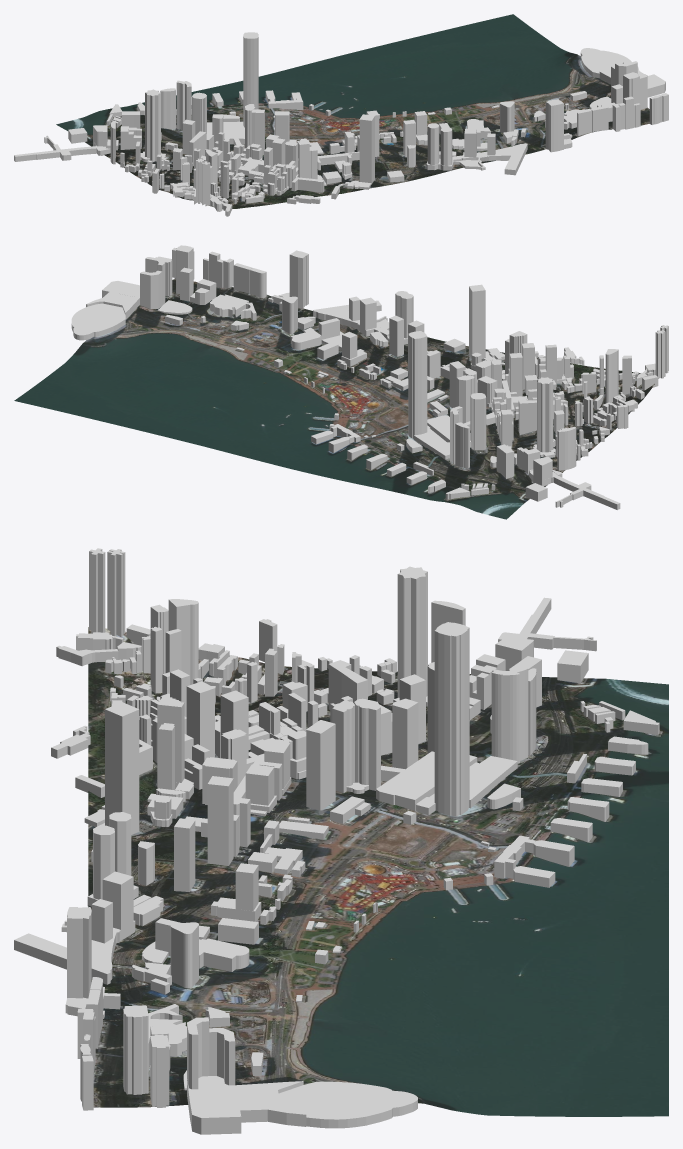
3 renders of one model, top to bottom at view 1: azimuth 30°, elevation 25°; view 2: azimuth 150°, elevation 25°; view 3: azimuth 270°, elevation 25°, orthographic. The views are drawn at different scales.
Parts seen in each view (by area): view 1: Areas:building, EXPORT_ESRI_AERIAL_WM; view 2: EXPORT_ESRI_AERIAL_WM, Areas:building; view 3: EXPORT_ESRI_AERIAL_WM, Areas:building.
Boxes of the visible parts, <box> form: Areas:building: <box>14,32,668,216</box>; EXPORT_ESRI_AERIAL_WM: <box>56,14,649,209</box>; EXPORT_ESRI_AERIAL_WM: <box>14,278,658,519</box>; Areas:building: <box>71,245,668,509</box>; EXPORT_ESRI_AERIAL_WM: <box>88,627,668,1116</box>; Areas:building: <box>14,548,659,1134</box>.
Bounding box in the file's own units: 262668 × 43998 × 137973.
1 material, 1 textured.
